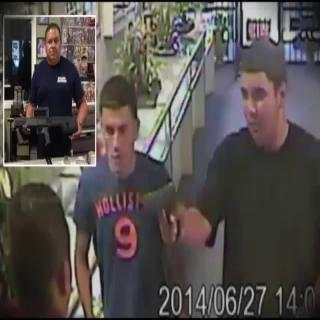gun: (2, 95, 80, 145)
